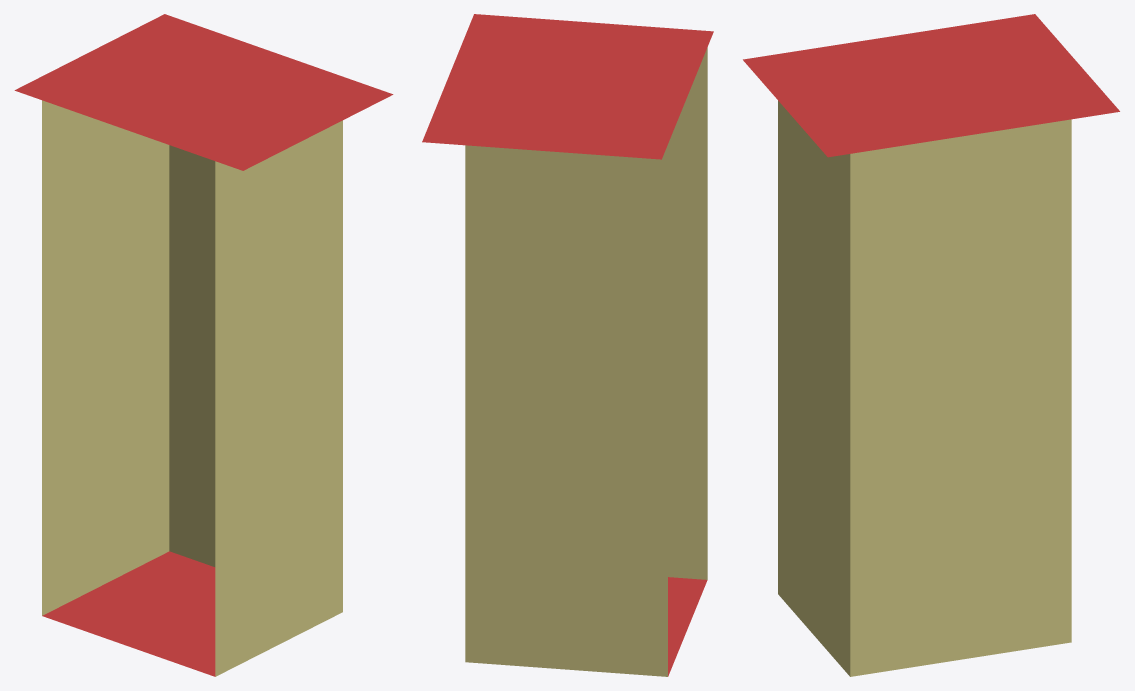
The picture shows the model from 3 angles, left to right: view 1: azimuth 30°, elevation 25°; view 2: azimuth 150°, elevation 25°; view 3: azimuth 270°, elevation 25°; orthographic projection. The views are drawn at different scales.
Size of the model in its own units: 4.48 by 4.99 by 7.87.
